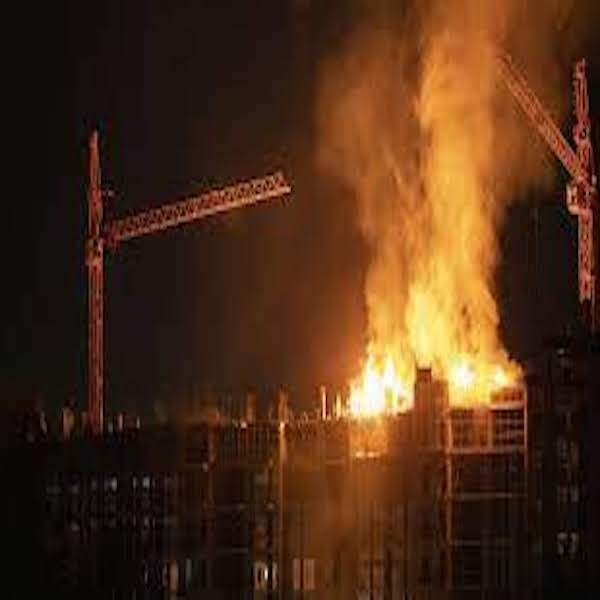fire: (325, 46, 506, 352), (446, 360, 522, 406), (351, 362, 415, 413)
